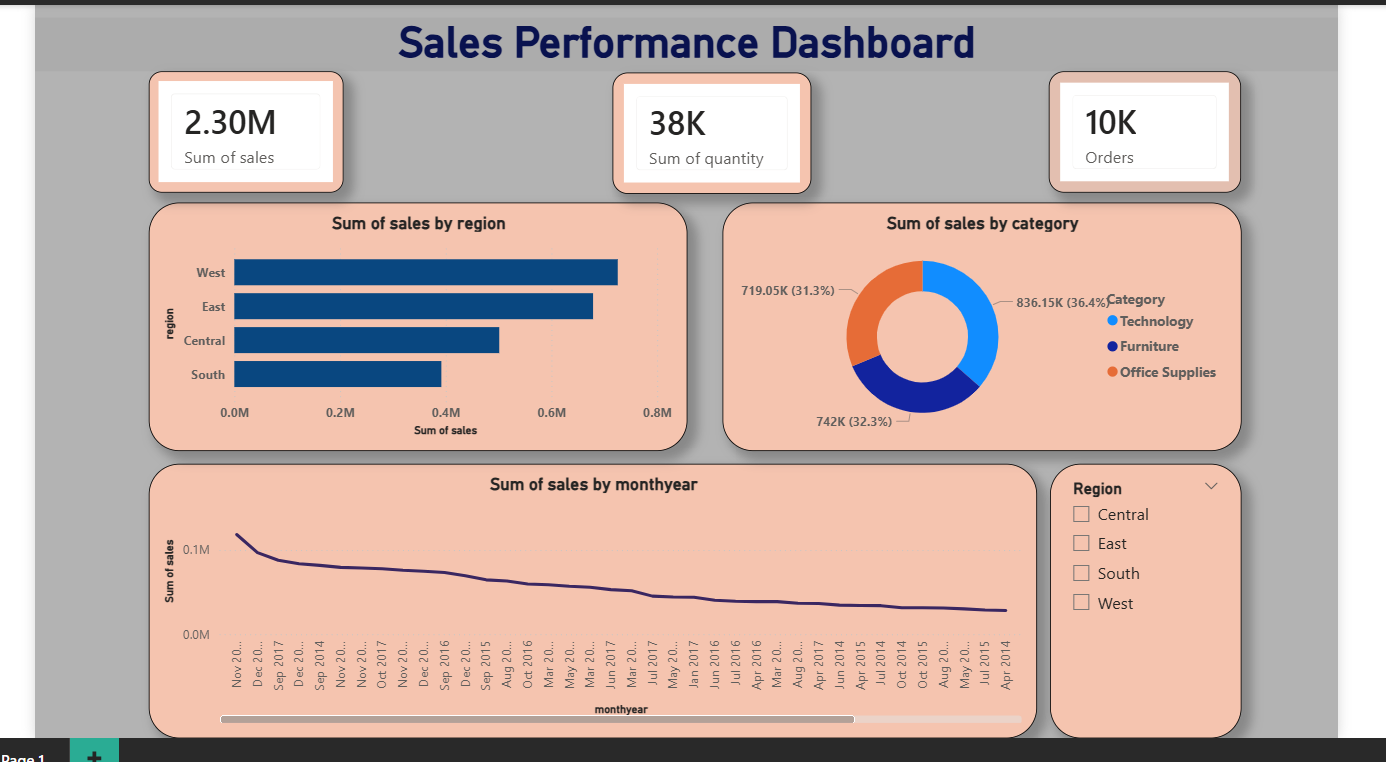

The page's visual inventory and layout, read from the dashboard file:
{"tool":"powerbi","page":{"name":"Page 1","canvas":[1280,720],"ordinal":0},"visuals":[{"type":"lineChart","fields":{"Category":["Sample - Superstore.monthyear"],"Y":["Sum(Sample - Superstore.sales)"]},"box":[111.7,450.3,872.4,269.9],"z":0},{"type":"clusteredBarChart","fields":{"Category":["Sample - Superstore.region"],"Y":["Sum(Sample - Superstore.sales)"]},"box":[111.7,193.9,528.8,244.2],"z":1},{"type":"donutChart","fields":{"Category":["Sample - Superstore.category"],"Y":["Sum(Sample - Superstore.sales)"]},"box":[674.9,193.9,509.2,244.2],"z":2},{"type":"slicer","fields":{"Values":["Sample - Superstore.region"]},"box":[996.3,450.3,187.7,269.9],"z":3},{"type":"cardVisual","fields":{"Data":["Sum(Sample - Superstore.sales)"]},"box":[111.7,65,191.4,119],"z":4},{"type":"cardVisual","fields":{"Data":["Sum(Sample - Superstore.quantity)"]},"box":[566.9,66.3,195.1,119],"z":5},{"type":"cardVisual","fields":{"Data":["Sample - Superstore.Orders"]},"box":[995.1,65,189,119],"z":6},{"type":"textbox","title":"Sales Performance Dashboard","box":[0,12.3,1279.8,52.8],"z":7}]}

Visuals, with their boxes in screenshot pixels (x1, y1, x2, y2):
lineChart - Sample - Superstore.monthyear x Sum(Sample - Superstore.sales): bbox=[156, 460, 1033, 732]
clusteredBarChart - Sample - Superstore.region x Sum(Sample - Superstore.sales): bbox=[156, 202, 688, 448]
donutChart - Sample - Superstore.category x Sum(Sample - Superstore.sales): bbox=[722, 202, 1235, 448]
slicer - Sample - Superstore.region: bbox=[1046, 460, 1235, 732]
cardVisual - Sum(Sample - Superstore.sales): bbox=[156, 73, 348, 192]
cardVisual - Sum(Sample - Superstore.quantity): bbox=[614, 74, 810, 194]
cardVisual - Sample - Superstore.Orders: bbox=[1045, 73, 1235, 192]
"Sales Performance Dashboard" textbox: bbox=[43, 20, 1331, 73]
